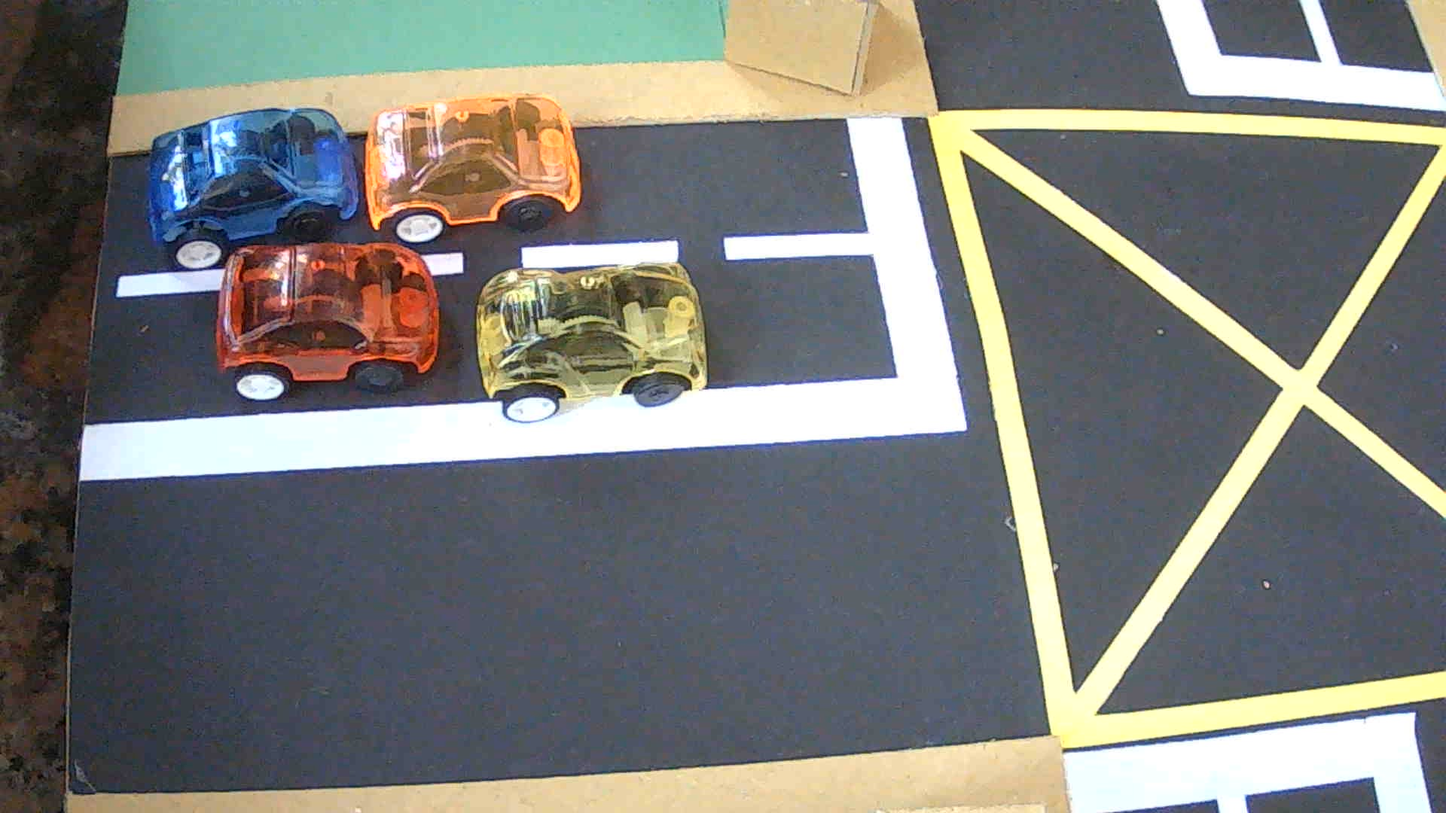Mobil biru: (148, 108, 360, 269)
Mobil kuning: (477, 262, 706, 423)
Mobil merah: (215, 242, 439, 400)
Mobil orange: (365, 95, 581, 244)
